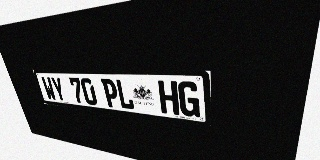0: (79, 78, 98, 106)
7: (68, 77, 86, 104)
G: (178, 81, 200, 117)
H: (158, 80, 179, 115)
L: (115, 79, 135, 110)
P: (101, 79, 120, 108)
W: (41, 77, 57, 101)
Y: (50, 77, 67, 102)
